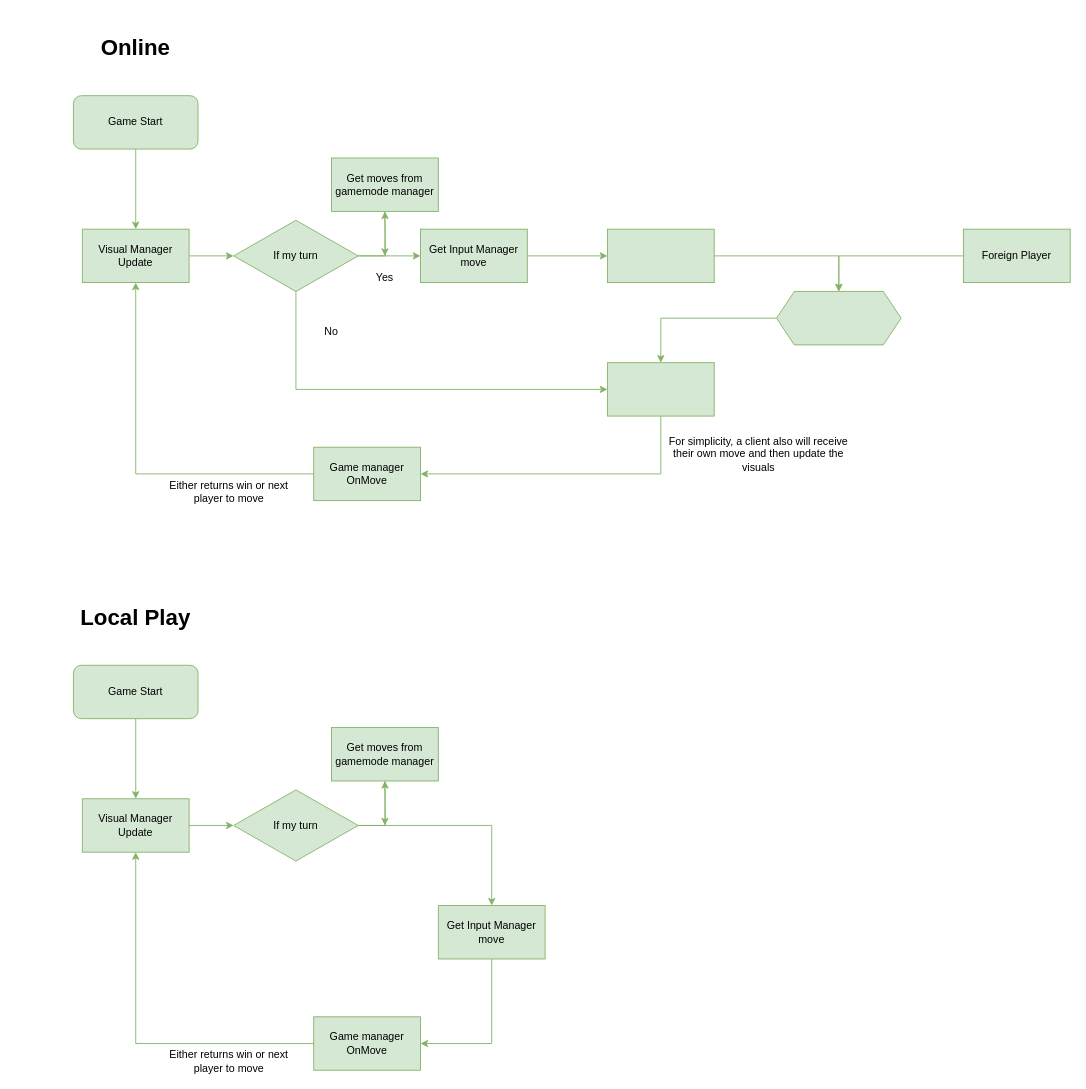
The diagram is 1086 pixels wide and 1089 high, and some of its shapes have lost their labels. The centre of each missing label's shape, as x and y in pixels:
"Send move to Server (Client)" goes at (x=660, y=255).
"Server Relay" goes at (x=838, y=318).
"Wait for Server to send move (Client)" goes at (x=660, y=389).
